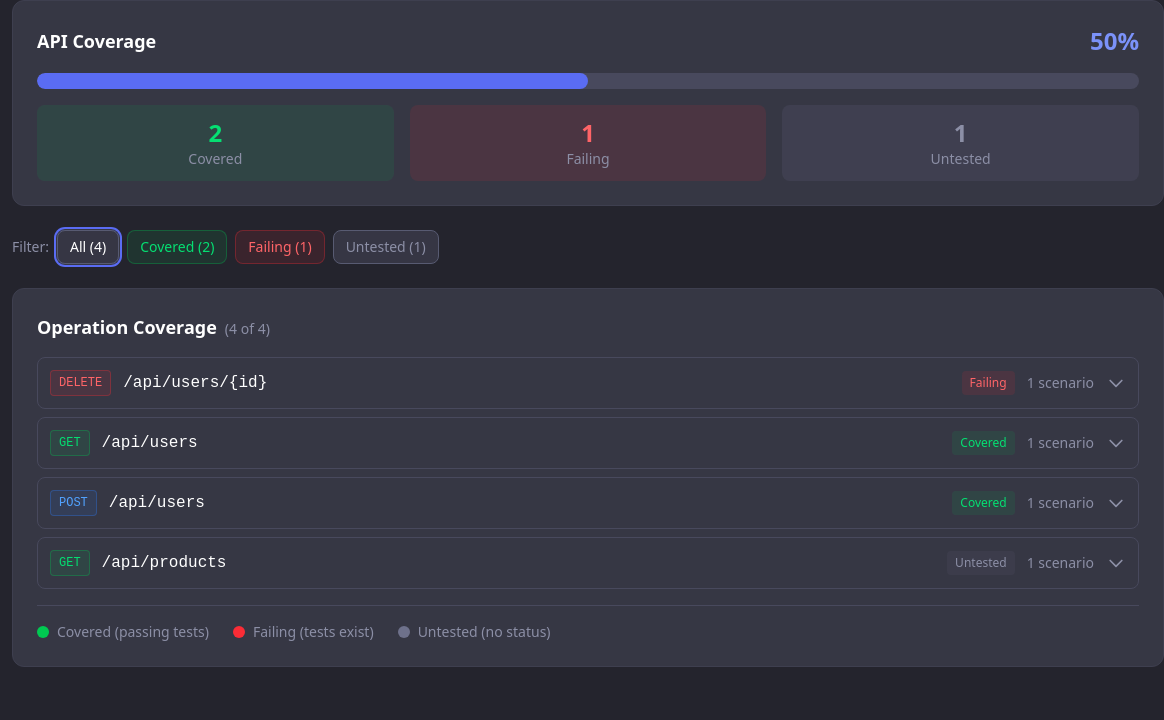
Test: OperationCoverageTable › filters by covered status
The width and height of the screenshot is (1164, 720).
Step 1. Click the button "Covered (2)" → click(177, 247), box [127, 230, 227, 264]
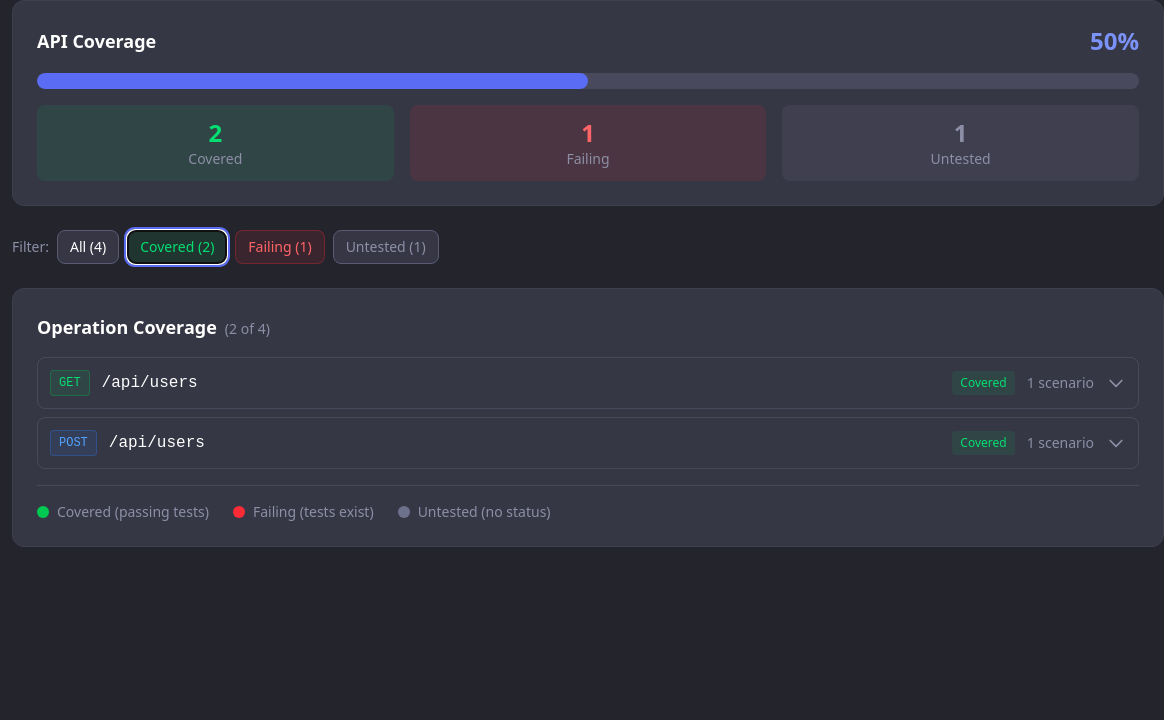
expect the text "(2 of 4)" is shown: met, box [225, 319, 270, 338]
expect the button "/api/users/{id}" is gone: met
expect the button "/api/products" is gone: met
